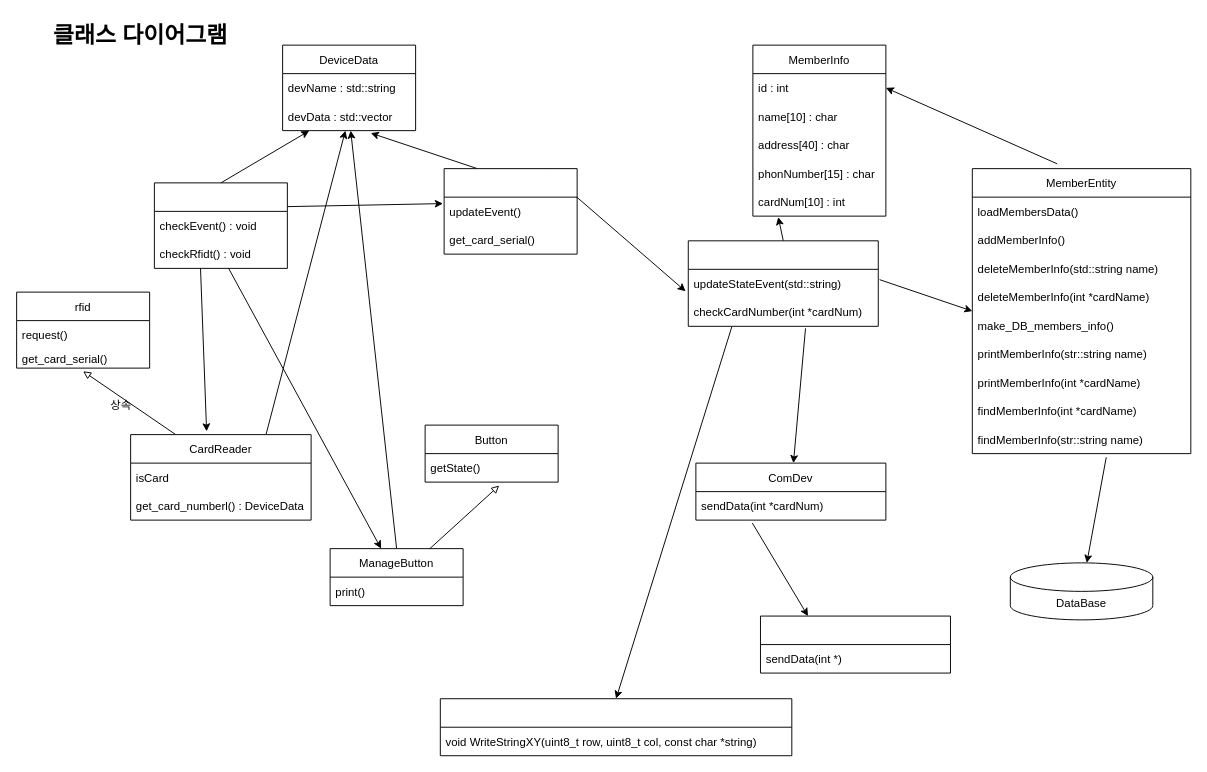
Image size: 1207x772. Some labels were removed from this diagram. Each missing label, with the box of its shape:
Controller: (443, 168, 577, 254)
LCD: (439, 698, 792, 756)
Listener: (153, 182, 287, 268)
MembersManage Service: (687, 240, 878, 326)
TcpServer: (760, 615, 950, 673)
